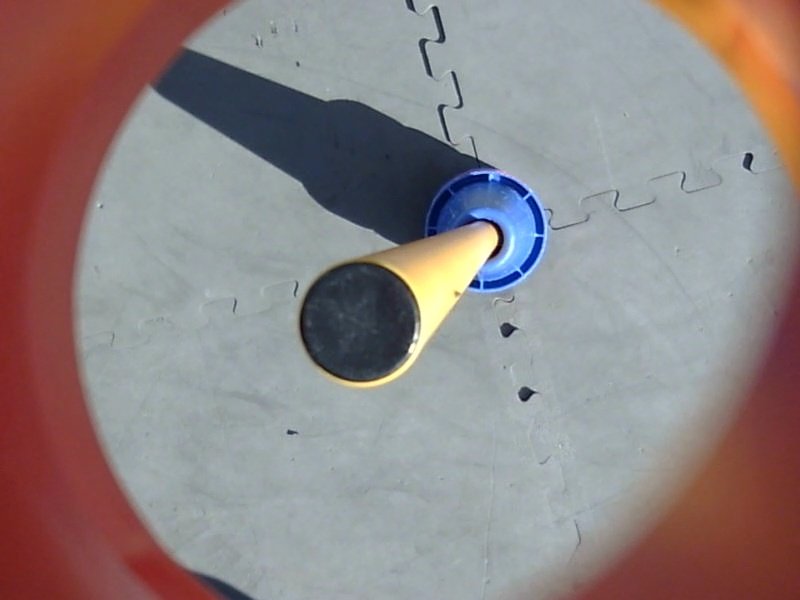tip: (292, 254, 429, 398)
